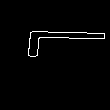L_E: (4, 38, 106, 72)
